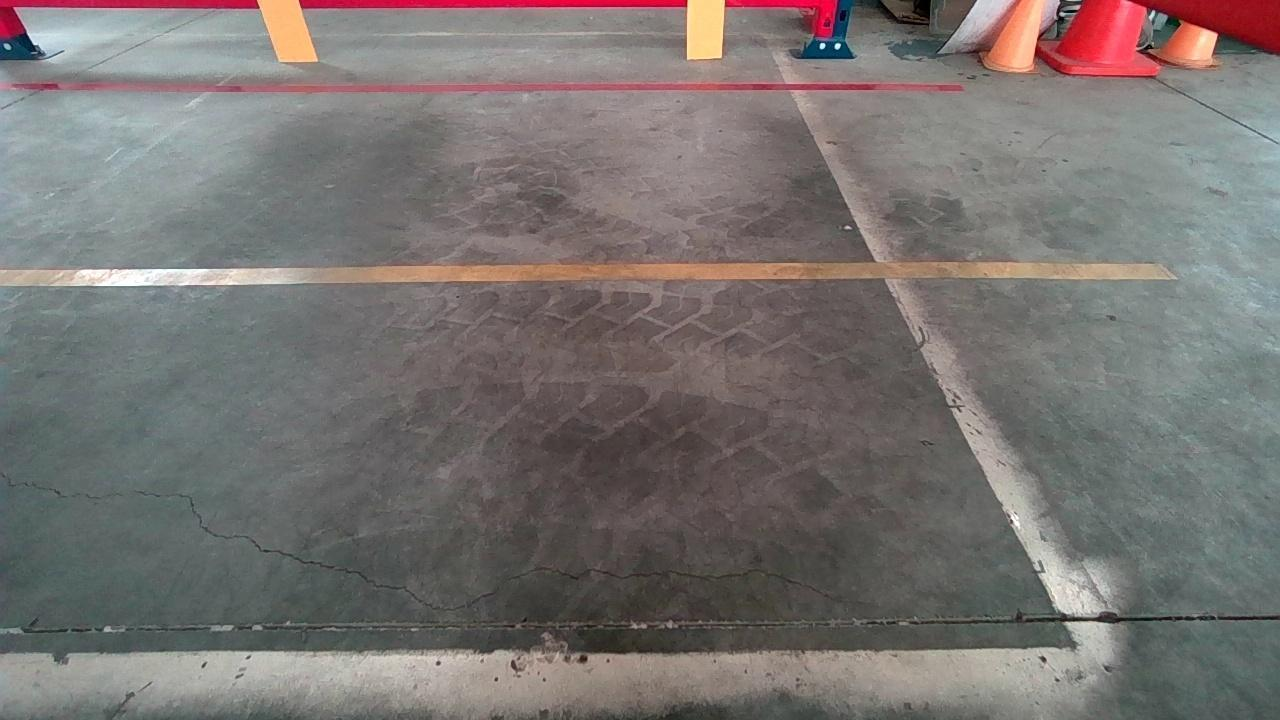red_line: (1, 78, 961, 101)
yellow_line: (1, 255, 1162, 300)
